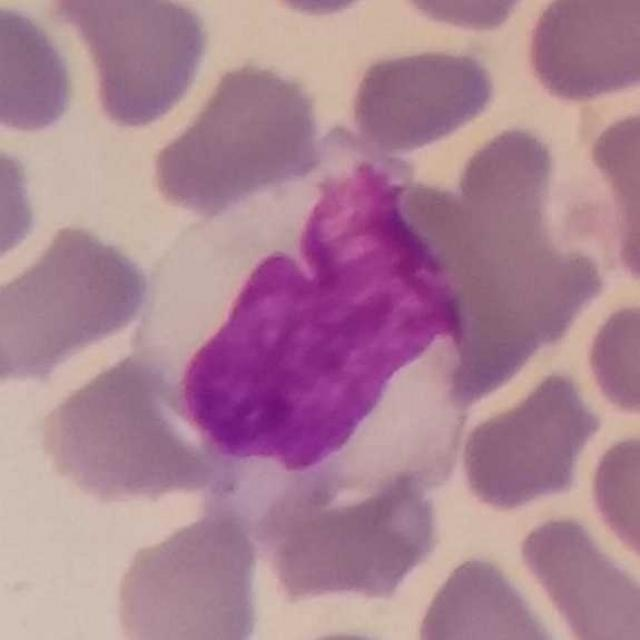Monocyte: (156, 140, 465, 495)
RBC: (32, 348, 245, 510), (144, 54, 330, 220), (255, 466, 447, 610), (0, 216, 159, 388), (454, 364, 607, 515), (44, 0, 215, 134), (104, 507, 268, 640), (344, 40, 500, 155), (514, 506, 640, 640), (408, 547, 570, 640), (518, 0, 640, 107), (0, 0, 80, 141), (448, 123, 560, 218), (587, 99, 640, 292), (584, 423, 640, 581), (581, 292, 640, 428), (0, 117, 43, 288), (384, 0, 549, 37), (239, 0, 395, 21)
